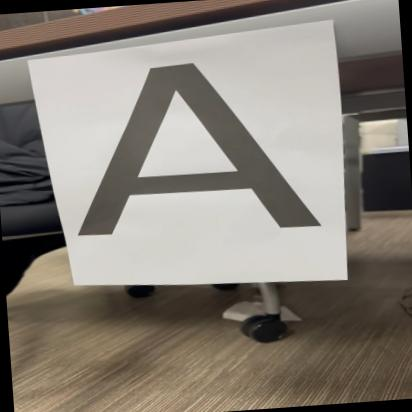seat: (44, 43, 340, 260)
